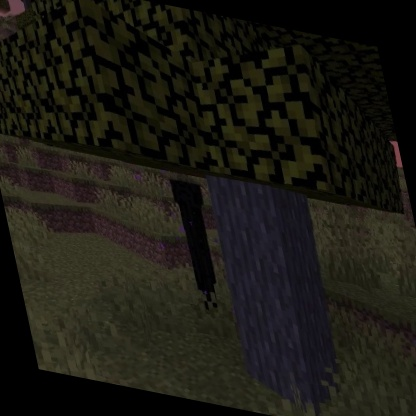enderman: (167, 176, 229, 313)
